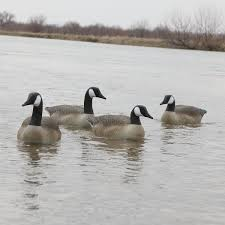goose: (10, 88, 62, 150), (46, 83, 111, 125), (85, 102, 155, 140), (156, 92, 208, 129)
